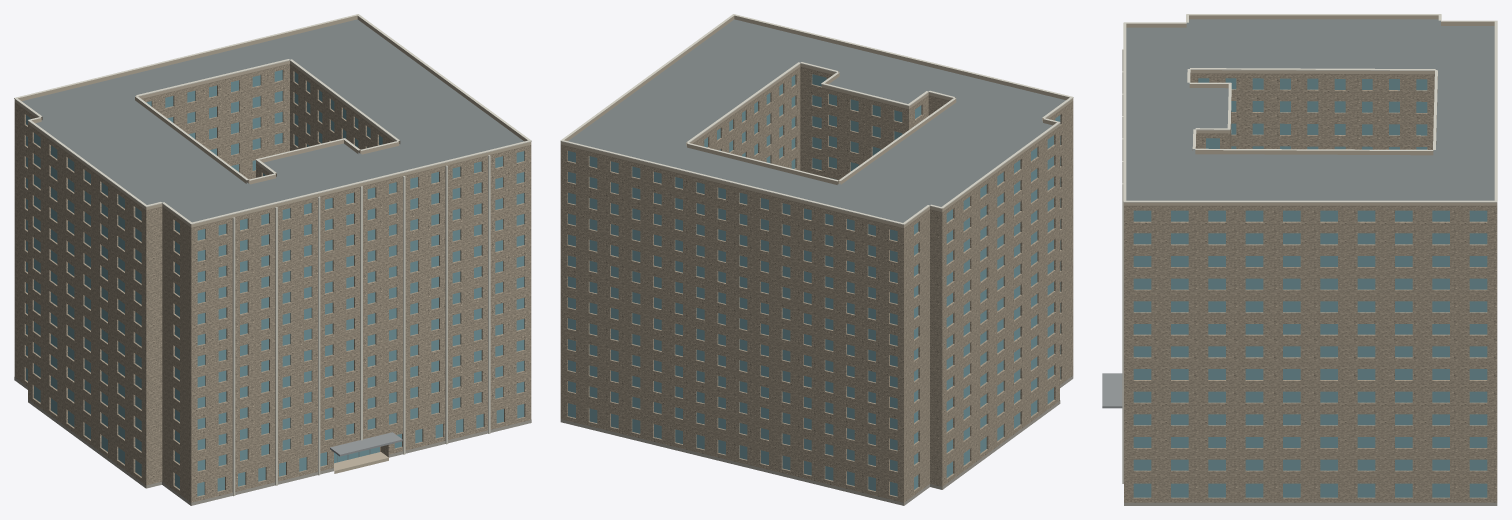
3 views of the same model, side by side, from view 1: azimuth 30°, elevation 25°; view 2: azimuth 150°, elevation 25°; view 3: azimuth 270°, elevation 25° (orthographic). The views are drawn at different scales.
Parts seen in each view (by area): view 1: dormFemale__wall, dormFemale__roof, dormFemale__glass, dormFemale__trim, dormFemale__parapet, dormFemale__base, dormFemale__canopy, dormFemale__entranceThreshold_0; view 2: dormFemale__wall, dormFemale__roof, dormFemale__glass, dormFemale__parapet, dormFemale__trim, dormFemale__base; view 3: dormFemale__wall, dormFemale__roof, dormFemale__glass, dormFemale__trim, dormFemale__parapet, dormFemale__base, dormFemale__canopy.
Boxes of the visible parts, <box> form: dormFemale__wall: <box>14,63,531,505</box>; dormFemale__roof: <box>22,19,523,222</box>; dormFemale__glass: <box>26,70,524,496</box>; dormFemale__trim: <box>14,14,531,496</box>; dormFemale__parapet: <box>14,15,531,227</box>; dormFemale__base: <box>14,377,531,505</box>; dormFemale__canopy: <box>330,432,402,456</box>; dormFemale__entranceThreshold_0: <box>334,452,388,473</box>; dormFemale__wall: <box>560,66,1073,505</box>; dormFemale__roof: <box>568,19,1065,222</box>; dormFemale__glass: <box>568,74,1060,496</box>; dormFemale__parapet: <box>560,15,1073,227</box>; dormFemale__trim: <box>560,14,1073,224</box>; dormFemale__base: <box>560,376,1073,505</box>; dormFemale__wall: <box>1124,73,1497,502</box>; dormFemale__roof: <box>1126,19,1494,200</box>; dormFemale__glass: <box>1133,78,1487,497</box>; dormFemale__trim: <box>1122,14,1497,483</box>; dormFemale__parapet: <box>1124,15,1497,205</box>; dormFemale__base: <box>1124,502,1497,505</box>; dormFemale__canopy: <box>1102,373,1122,408</box>.
Size of the model in its own units: 53.45 by 40.75 by 47.55.
10 materials, 1 textured.
